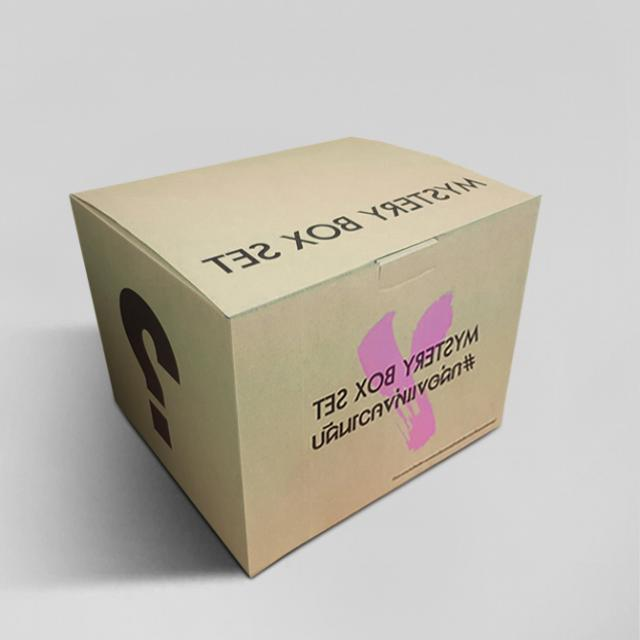box: (66, 115, 550, 580)
